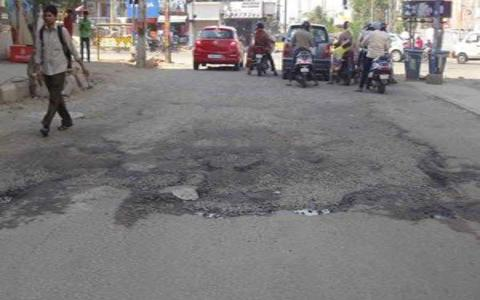patchy roads: (221, 120, 465, 223), (9, 137, 210, 226)
